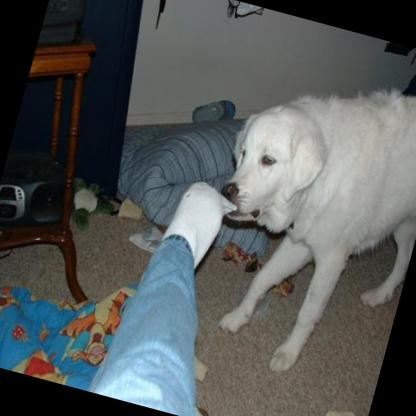Great_Pyrenees: (179, 40, 416, 396)
